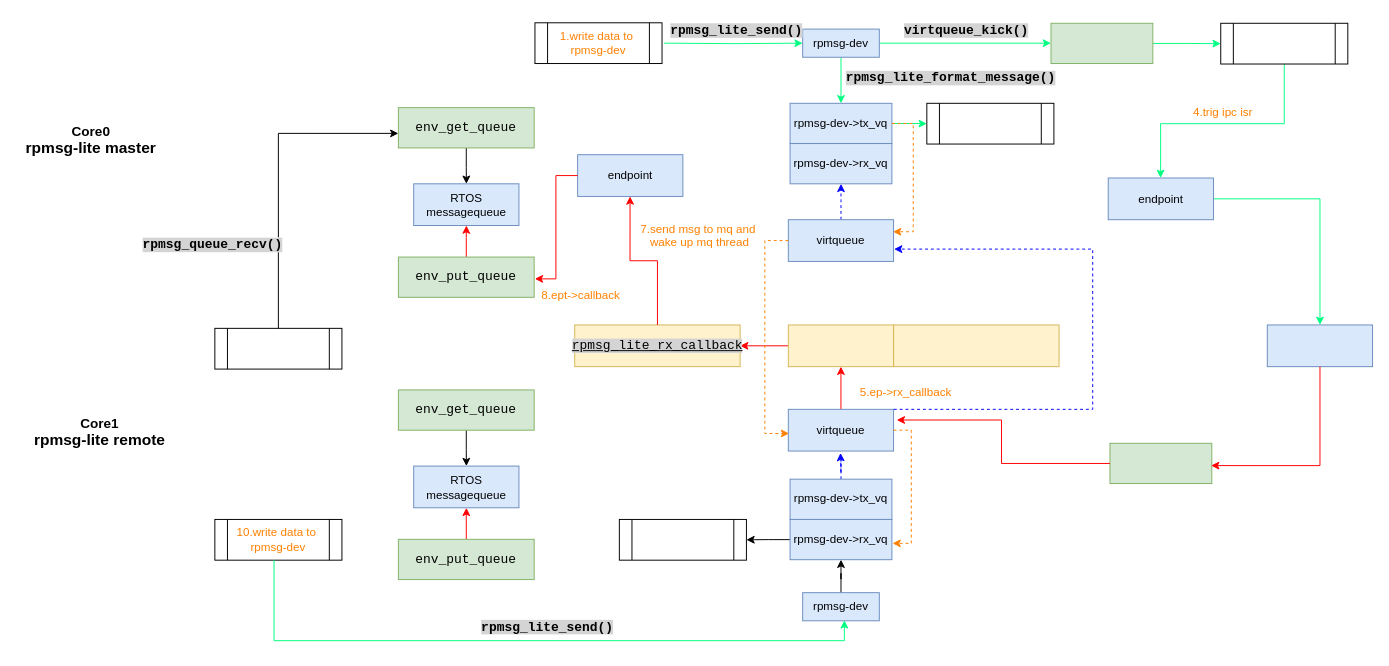
Some shapes in this 1389 by 666 pixel diagram are drawn without their labels. Each missing label, with the centre of its shape:
2.write data to rpmsg-dev->tx_vq: point 990,123
3.notify remote: point 1284,43
6.read data from rpmsg-dev->rx_vq: point 682,539
9.read data from rpmsg-dev: point 278,348
env_isr: point 1160,463
ep->callback: point 840,345
platform_notify: point 1101,43
remote ipc isr: point 1319,345
rpmsg_lite_tx_callback: point 976,345
